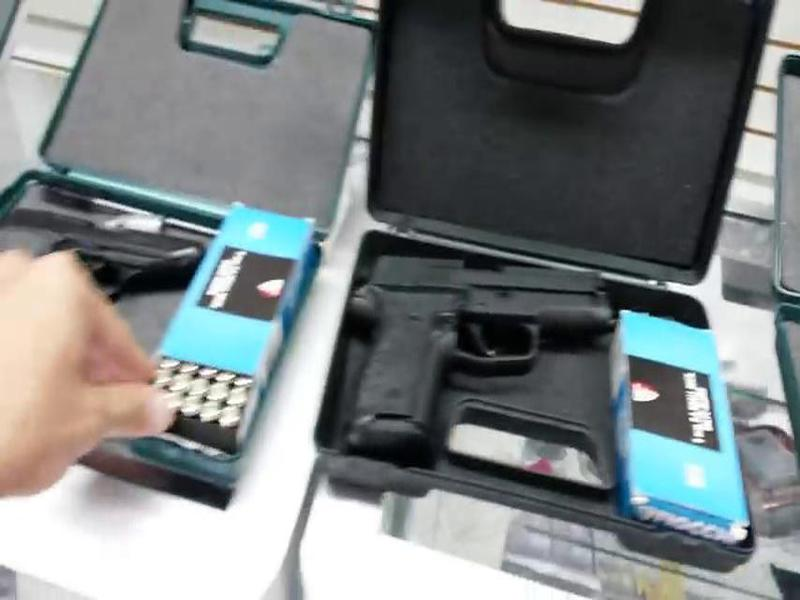Pistola: (326, 238, 633, 458)
